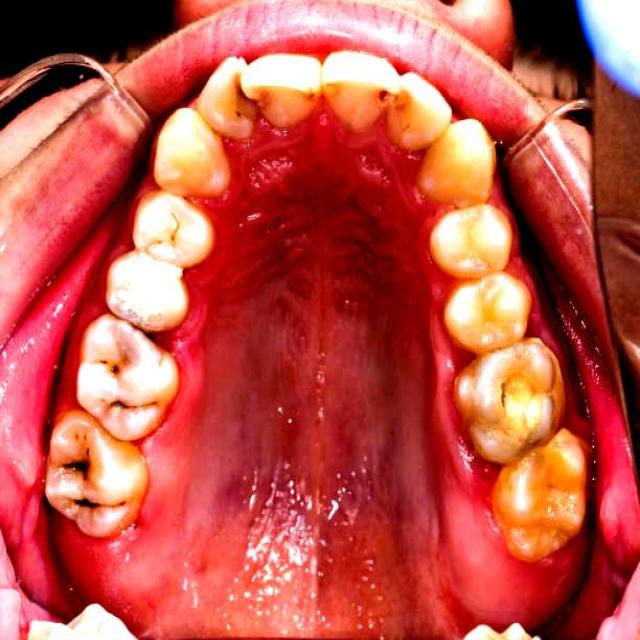caries: (486, 359, 548, 450), (220, 66, 278, 135), (58, 482, 130, 529), (362, 73, 421, 127), (52, 434, 102, 484), (101, 385, 161, 422), (98, 340, 138, 385)
